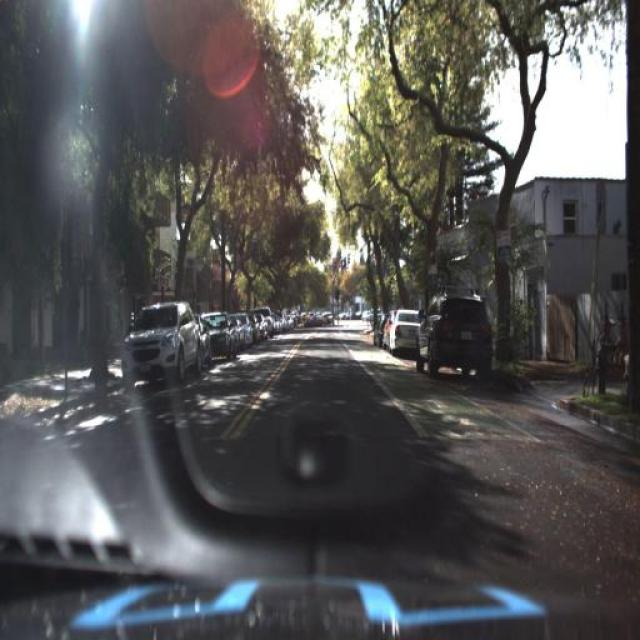car: (119, 297, 202, 388), (415, 288, 497, 376), (415, 291, 493, 377), (196, 312, 238, 363), (386, 305, 422, 356), (387, 310, 421, 351)
